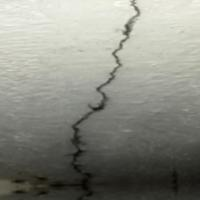crack: (51, 4, 144, 191)
